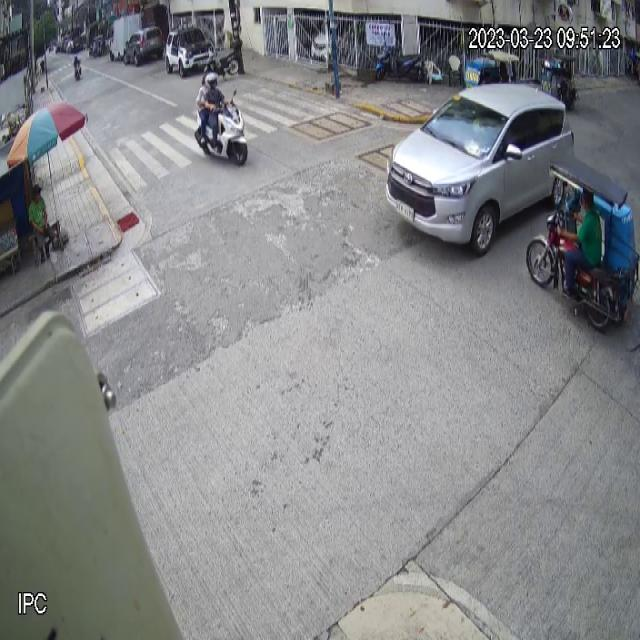Car: (385, 80, 575, 254)
Motorcycle: (194, 88, 248, 167)
Tricycle: (526, 151, 640, 329)
